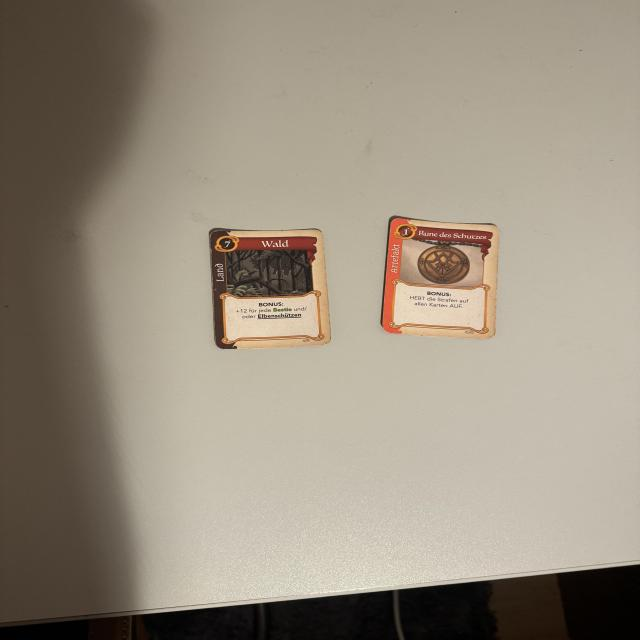Forest: (204, 226, 333, 355)
Rune Of Protection: (377, 215, 502, 341)
